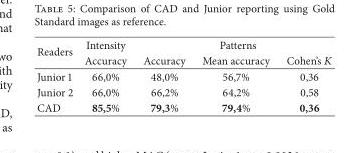table: (36, 36, 320, 114)
table column: (193, 36, 277, 114), (134, 36, 193, 114), (78, 36, 134, 114), (277, 36, 320, 114), (36, 36, 78, 114)
table column header: (36, 36, 320, 68)
table row: (36, 36, 320, 52), (36, 52, 320, 68), (36, 83, 320, 99), (36, 68, 320, 83), (36, 99, 320, 114)
table spanning cell: (134, 36, 320, 52), (78, 36, 134, 68), (36, 36, 78, 68)
